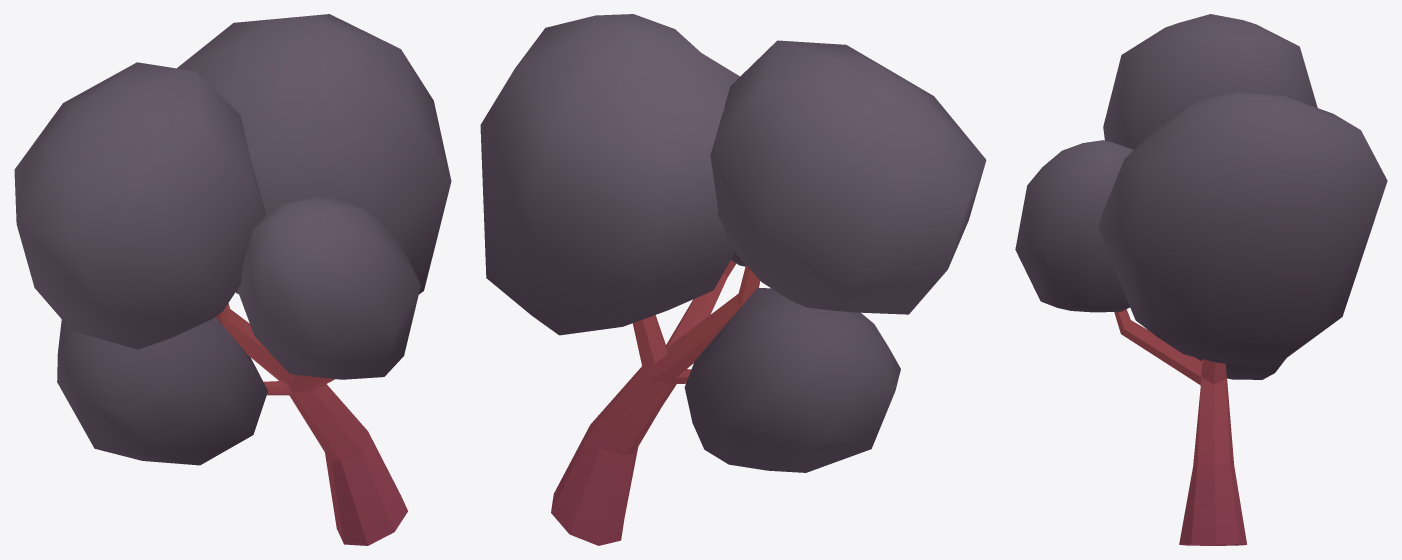
File: Tree4_Dark.glb
3 renders of one model, left to right at view 1: azimuth 30°, elevation 25°; view 2: azimuth 150°, elevation 25°; view 3: azimuth 270°, elevation 25°, orthographic. The views are drawn at different scales.
Visible parts, largest first — view 1: Tree4_Dark; view 2: Tree4_Dark; view 3: Tree4_Dark.
Part boxes in pixels (left/top/right/bottom): Tree4_Dark: left=14, top=14, right=451, bottom=545; Tree4_Dark: left=480, top=14, right=986, bottom=545; Tree4_Dark: left=1015, top=14, right=1387, bottom=545.
Size of the model in its own units: 3.57 by 4.11 by 3.12.
1 material, 1 textured.
